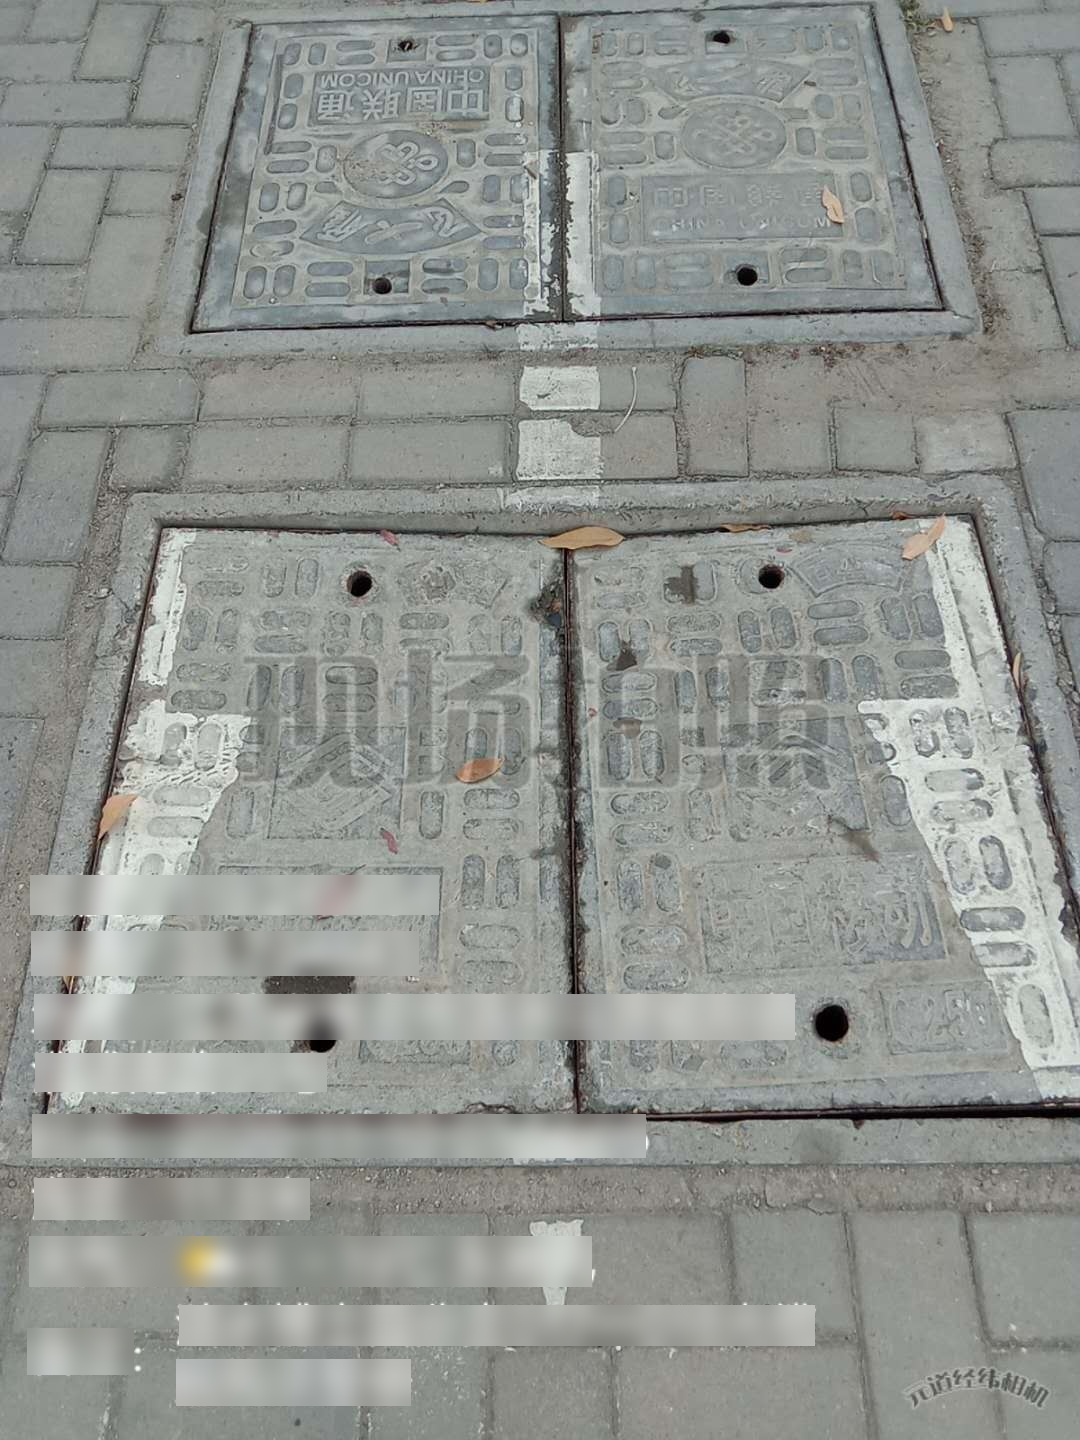good: (3, 469, 1080, 1166), (158, 7, 980, 351)
